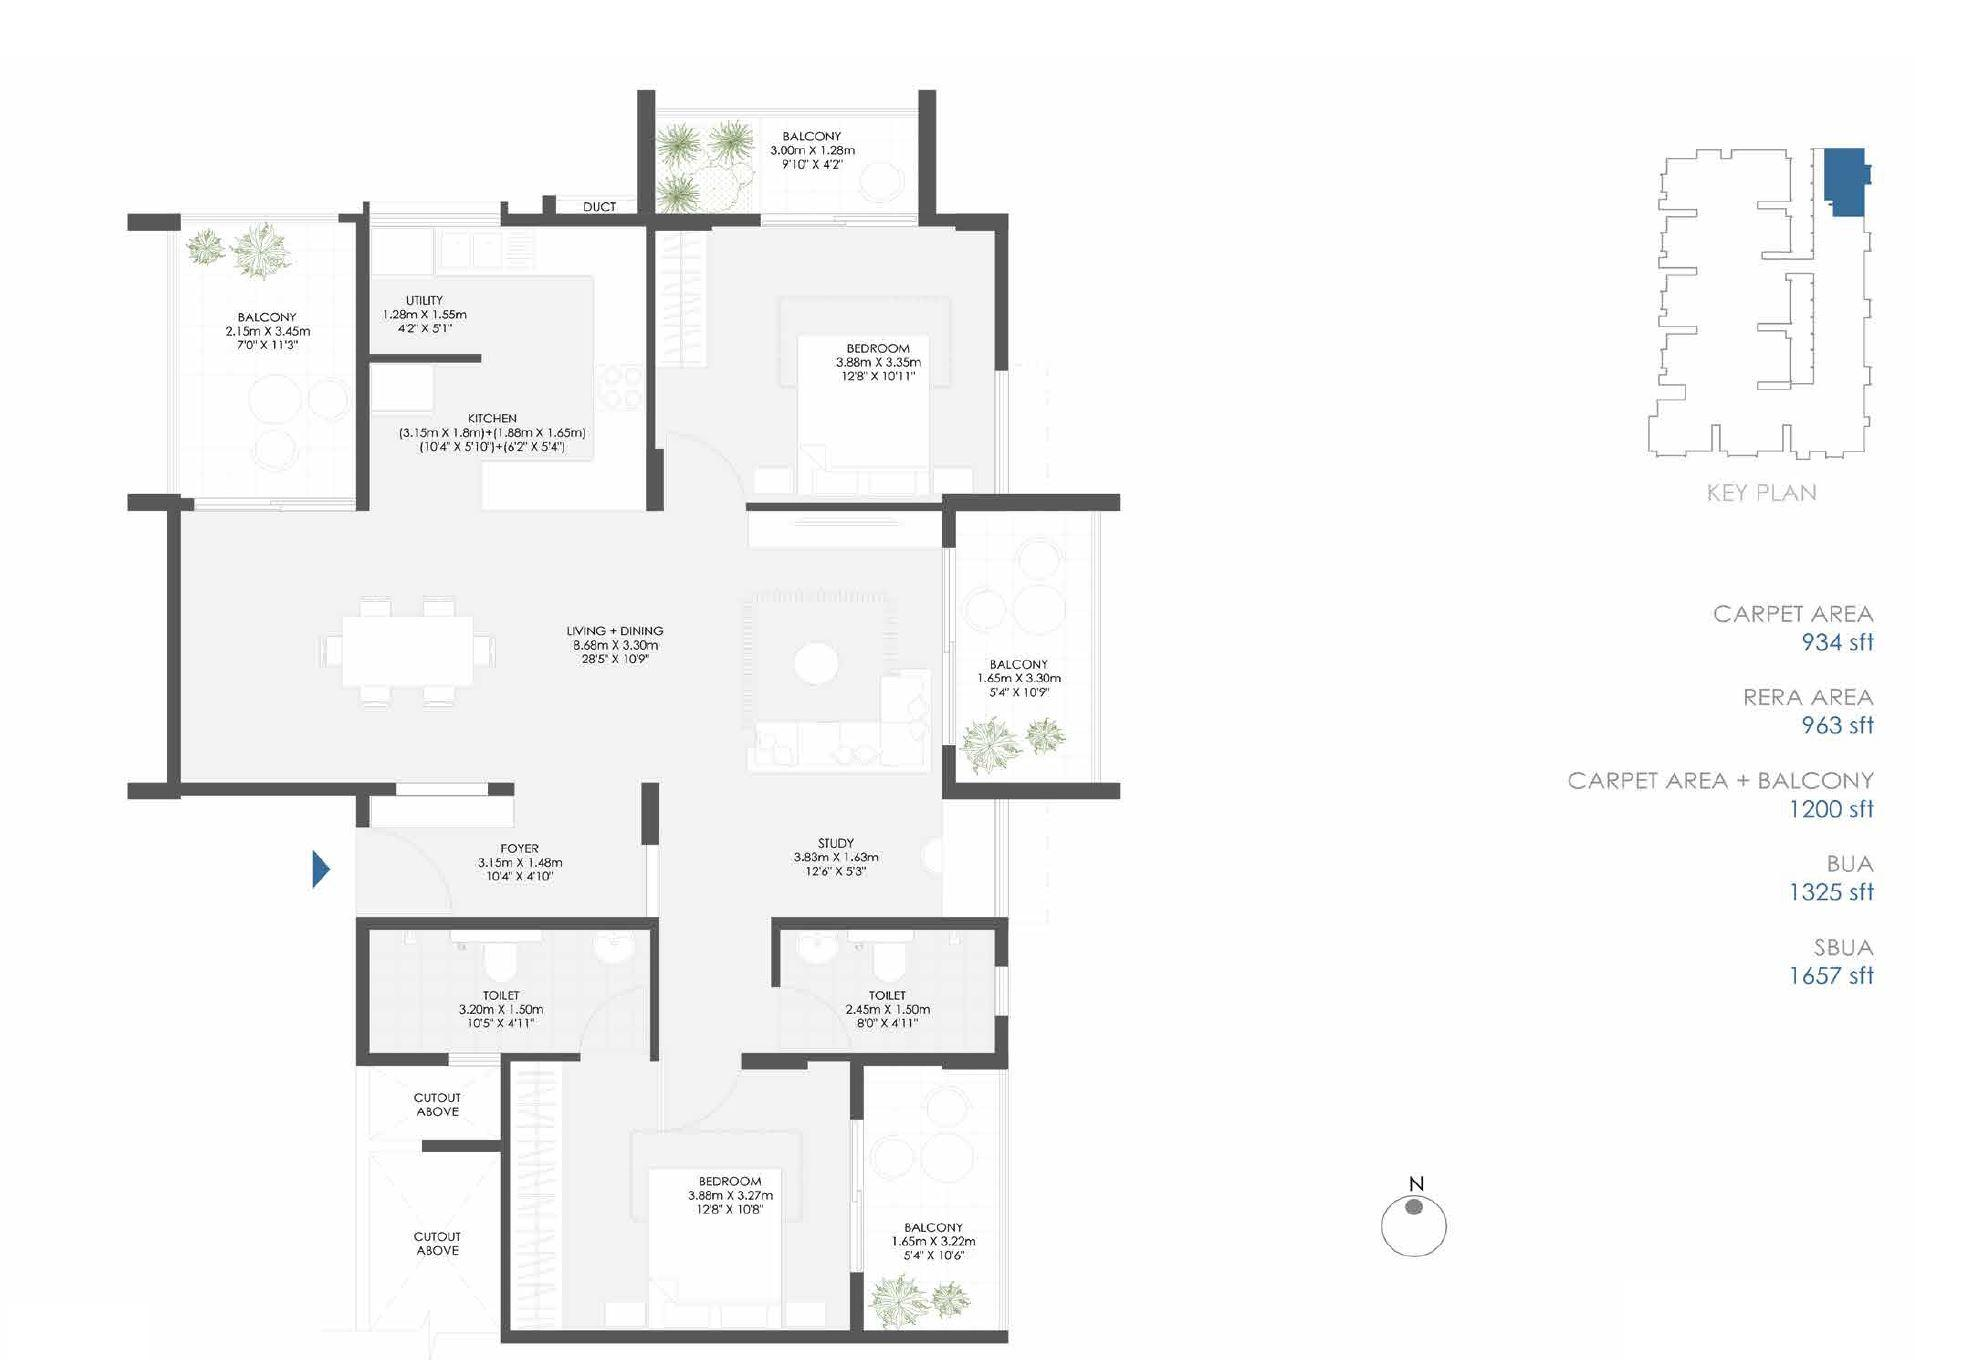Balcony: (170, 224, 353, 500), (951, 501, 1094, 778), (861, 1066, 1004, 1331), (653, 107, 924, 221)
Bed: (800, 333, 926, 501), (650, 1174, 771, 1328)
Bedroom: (654, 227, 995, 503), (521, 1066, 845, 1333)
Dining Room: (203, 513, 647, 781)
Dining table: (308, 591, 510, 712)
Foyer: (360, 824, 651, 908)
Kitchen: (372, 369, 638, 506)
Living Room: (647, 513, 942, 781)
Sofa: (752, 718, 926, 775), (881, 665, 933, 769)
Wardrobe: (515, 1063, 561, 1333), (656, 231, 708, 362)
door: (360, 827, 458, 922), (657, 432, 749, 530), (933, 540, 971, 743), (768, 988, 855, 1070), (653, 1055, 741, 1133), (836, 1115, 876, 1279), (576, 989, 650, 1063), (759, 207, 917, 237), (195, 494, 357, 518)
fridge: (371, 365, 434, 413)
kitchen-slab: (593, 228, 641, 507), (432, 227, 645, 276), (482, 465, 641, 504)
sink: (441, 230, 542, 276), (591, 928, 638, 967), (800, 925, 843, 964)
study: (660, 784, 981, 914)
toilet: (369, 928, 650, 1052), (777, 931, 998, 1052)
utility: (366, 224, 548, 353)
washing-machine: (371, 228, 437, 279)
